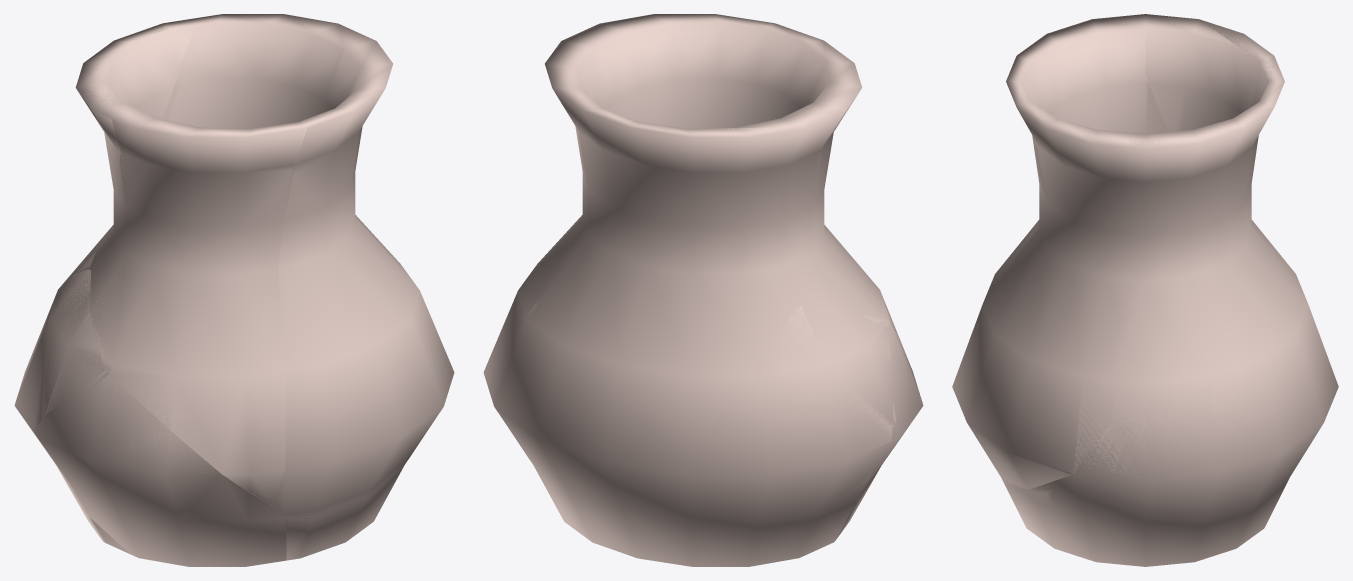
Rendered from Vase.fbx.
3 views of the same model, side by side, from view 1: azimuth 30°, elevation 25°; view 2: azimuth 150°, elevation 25°; view 3: azimuth 270°, elevation 25° (orthographic). The views are drawn at different scales.
Parts seen in each view (by area): view 1: Vase_cell3, Vase_cell5, Vase, Vase_cell1, Vase_cell7, Vase_cell6, Vase_cell4, Vase_cell2; view 2: Vase, Vase_cell6, Vase_cell3, Vase_cell4, Vase_cell7, Vase_cell1; view 3: Vase, Vase_cell5, Vase_cell4, Vase_cell2, Vase_cell7, Vase_cell3.
Boxes of the visible parts, bbox=[...] form: Vase_cell3: bbox=[91, 115, 306, 504]; Vase_cell5: bbox=[272, 88, 454, 518]; Vase: bbox=[14, 14, 444, 566]; Vase_cell1: bbox=[46, 372, 286, 566]; Vase_cell7: bbox=[162, 22, 408, 275]; Vase_cell6: bbox=[16, 269, 105, 540]; Vase_cell4: bbox=[76, 23, 194, 154]; Vase_cell2: bbox=[77, 250, 412, 560]; Vase: bbox=[483, 14, 909, 566]; Vase_cell6: bbox=[683, 305, 892, 531]; Vase_cell3: bbox=[811, 90, 897, 334]; Vase_cell4: bbox=[620, 96, 852, 158]; Vase_cell7: bbox=[537, 49, 614, 263]; Vase_cell1: bbox=[836, 328, 923, 539]; Vase: bbox=[995, 14, 1338, 566]; Vase_cell5: bbox=[952, 108, 1128, 489]; Vase_cell4: bbox=[1133, 14, 1284, 131]; Vase_cell2: bbox=[1004, 253, 1337, 566]; Vase_cell7: bbox=[1111, 92, 1275, 419]; Vase_cell3: bbox=[988, 76, 1167, 289].
Bounding box in the file's own units: 194 × 205 × 170.
